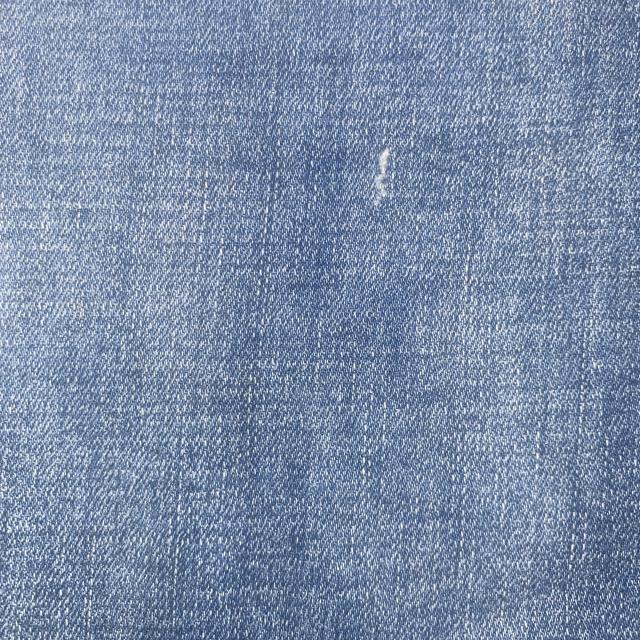Knot: (374, 146, 391, 207)
